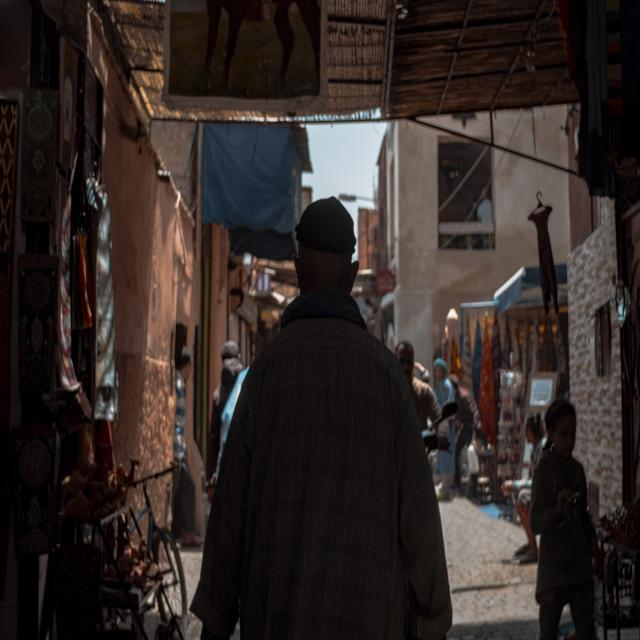adult: (200, 196, 447, 640), (531, 396, 600, 640)
